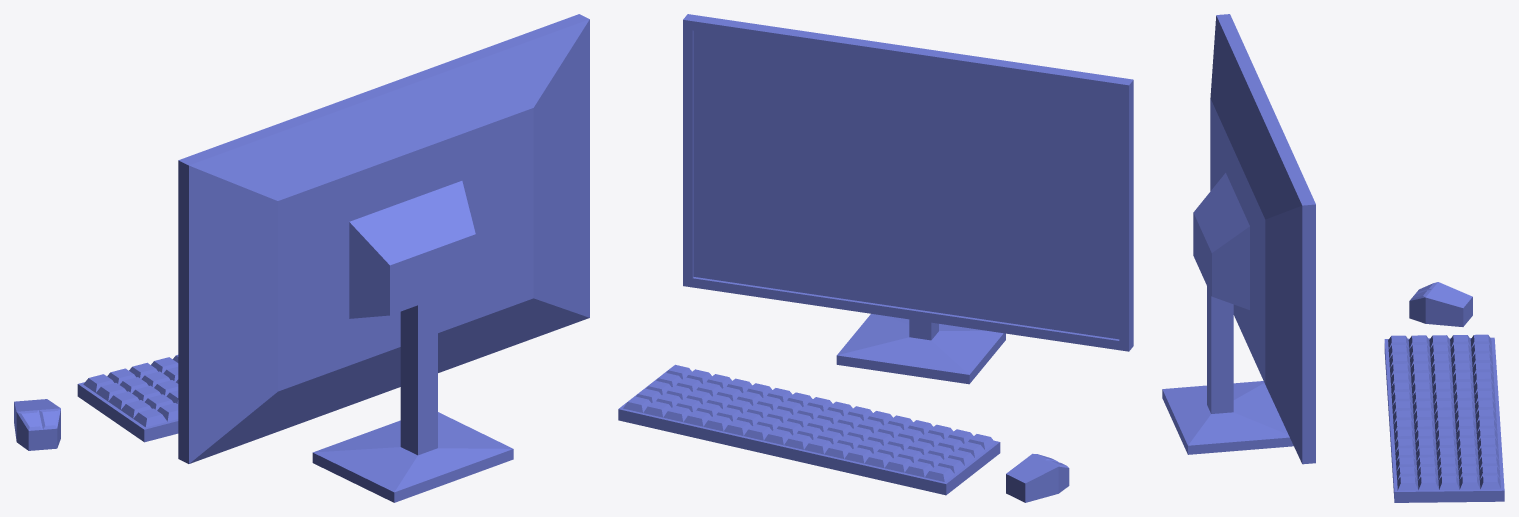
The model's file is computer.glb.
The picture shows the model from 3 angles, left to right: view 1: azimuth 30°, elevation 25°; view 2: azimuth 150°, elevation 25°; view 3: azimuth 270°, elevation 25°; orthographic projection. The views are drawn at different scales.
Visible parts, largest first — view 1: Cube.030, Cube.031, Cube.032; view 2: Cube.030, Cube.031, Cube.032; view 3: Cube.030, Cube.031, Cube.032.
Part boxes in pixels (<box>): Cube.030: <box>178,14,589,502</box>; Cube.031: <box>77,355,178,442</box>; Cube.032: <box>14,399,60,450</box>; Cube.030: <box>683,14,1133,384</box>; Cube.031: <box>618,364,1000,495</box>; Cube.032: <box>1006,453,1069,502</box>; Cube.030: <box>1162,14,1315,464</box>; Cube.031: <box>1384,334,1504,502</box>; Cube.032: <box>1409,282,1472,326</box>.
Size of the model in its own units: 1.81 by 1.26 by 1.25.
